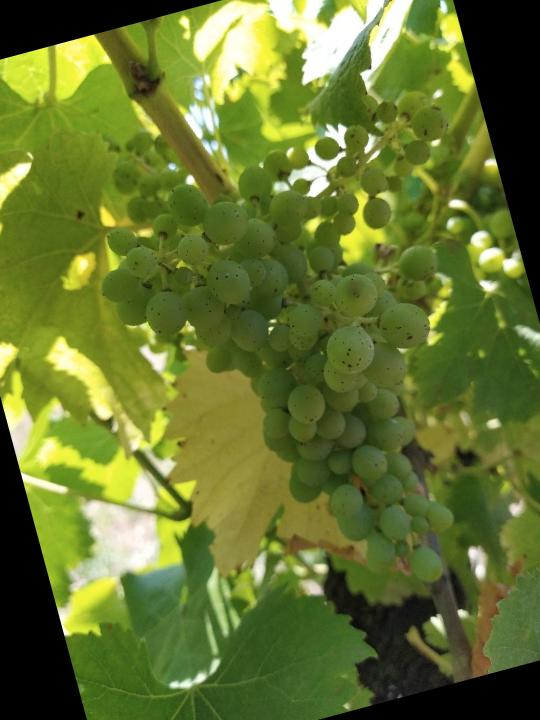grape: (70, 76, 540, 648)
